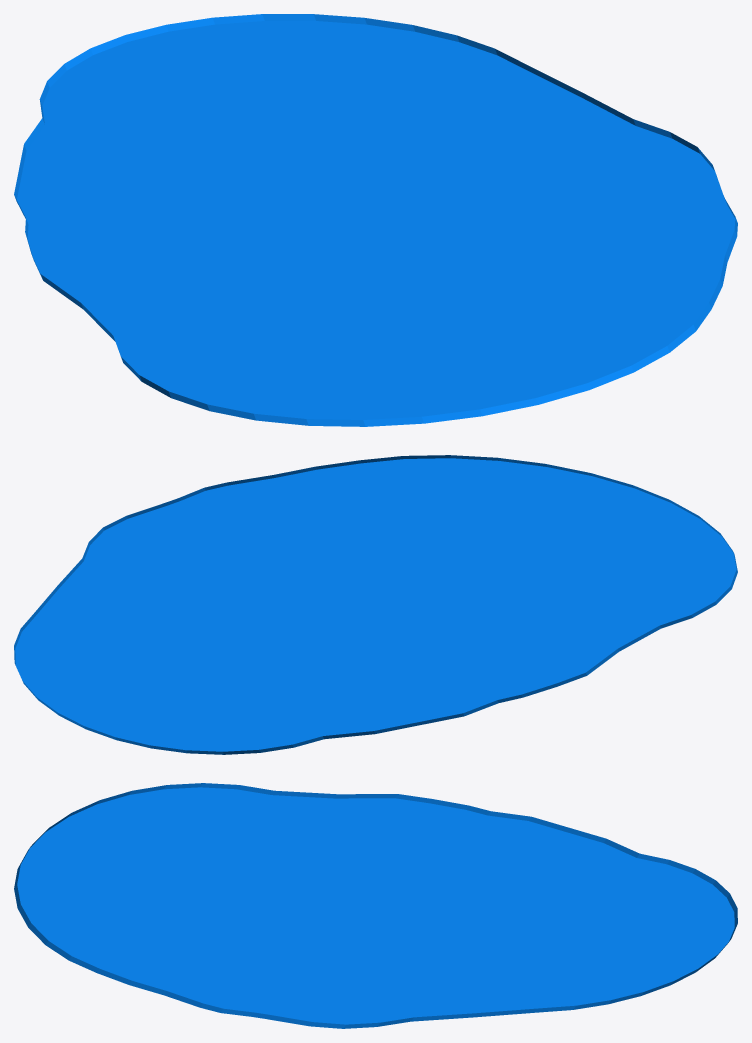
Rendered from Pond.fbx.
The picture shows the model from 3 angles, top to bottom: view 1: azimuth 30°, elevation 25°; view 2: azimuth 150°, elevation 25°; view 3: azimuth 270°, elevation 25°; orthographic projection. The views are drawn at different scales.
Parts seen in each view (by area): view 1: Pond; view 2: Pond; view 3: Pond.
Part boxes in pixels (x1,y1,x2,y2): Pond: [14, 14, 737, 426]; Pond: [14, 455, 737, 754]; Pond: [14, 783, 737, 1028].
Bounding box in the file's own units: 453 × 3.62 × 574.
